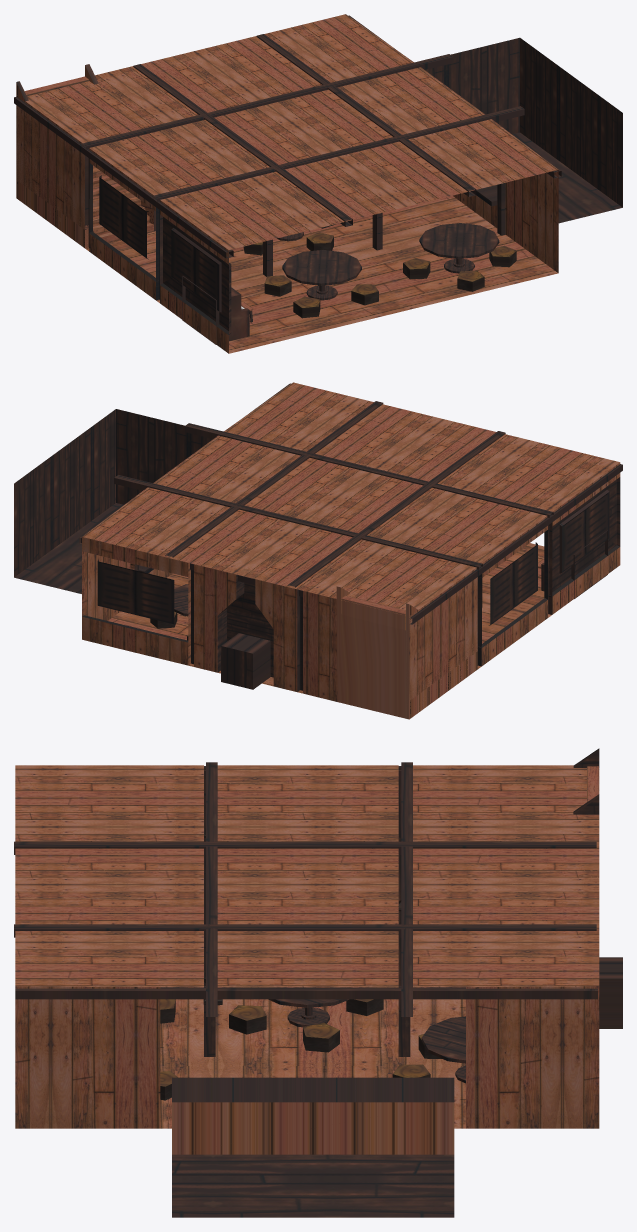
Rendered from tavern.fbx.
3 renders of one model, top to bottom at view 1: azimuth 30°, elevation 25°; view 2: azimuth 150°, elevation 25°; view 3: azimuth 270°, elevation 25°, orthographic. The views are drawn at different scales.
Visible parts, largest first — view 1: Plane, Plane.002, Plane.003, Plane.009, Plane.008, Plane.005, Plane.010, Plane.011, Cube, Cylinder.009, Cylinder.001, Cylinder.003 (+3 smaller); view 2: Plane, Plane.008, Plane.009, Plane.005, Plane.010, Plane.011; view 3: Plane, Plane.006, Plane.010, Plane.011, Plane.009, Plane.008, Plane.004, Plane.001, Cylinder.004, Cylinder.006.
Boxes of the visible parts, left/top/right/bottom form: Plane: left=16, top=14, right=622, bottom=353; Plane.002: left=282, top=250, right=361, bottom=300; Plane.003: left=419, top=223, right=499, bottom=273; Plane.009: left=81, top=54, right=453, bottom=149; Plane.008: left=153, top=106, right=524, bottom=201; Plane.005: left=14, top=96, right=233, bottom=258; Plane.010: left=133, top=64, right=352, bottom=226; Plane.011: left=256, top=34, right=476, bottom=196; Cube: left=182, top=276, right=249, bottom=344; Cylinder.009: left=457, top=270, right=484, bottom=291; Cylinder.001: left=264, top=275, right=291, bottom=296; Cylinder.003: left=351, top=284, right=378, bottom=305; Plane: left=14, top=382, right=620, bottom=719; Plane.008: left=184, top=423, right=553, bottom=517; Plane.009: left=114, top=475, right=482, bottom=569; Plane.005: left=410, top=464, right=622, bottom=624; Plane.010: left=287, top=431, right=505, bottom=587; Plane.011: left=165, top=401, right=383, bottom=557; Plane: left=15, top=748, right=622, bottom=1217; Plane.006: left=15, top=986, right=597, bottom=999; Plane.010: left=14, top=841, right=596, bottom=854; Plane.011: left=14, top=924, right=596, bottom=937; Plane.009: left=401, top=762, right=412, bottom=1016; Plane.008: left=206, top=762, right=217, bottom=1016; Plane.004: left=421, top=1016, right=465, bottom=1083; Plane.001: left=268, top=999, right=349, bottom=1027; Cylinder.004: left=229, top=1005, right=266, bottom=1034; Cylinder.006: left=303, top=1023, right=339, bottom=1052.
Size of the model in its own units: 2135 by 549 by 1808.
